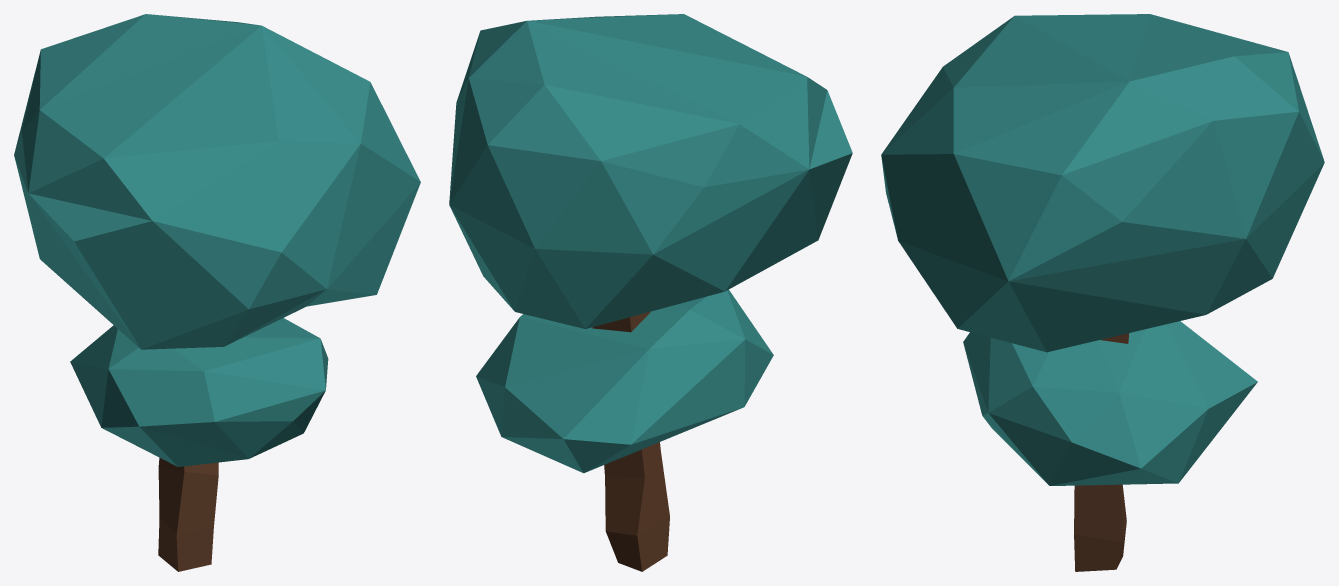
The model's file is Tree_52_Blue.fbx.
3 renders of one model, left to right at view 1: azimuth 30°, elevation 25°; view 2: azimuth 150°, elevation 25°; view 3: azimuth 270°, elevation 25°, orthographic. The views are drawn at different scales.
Visible parts, largest first — view 1: Tree_52_Blue_Part_1, Tree_52_Blue_Part_2; view 2: Tree_52_Blue_Part_1, Tree_52_Blue_Part_2; view 3: Tree_52_Blue_Part_1, Tree_52_Blue_Part_2.
Boxes of the visible parts, x1=… form: Tree_52_Blue_Part_1: x1=14, y1=14, x2=420, y2=466; Tree_52_Blue_Part_2: x1=158, y1=457, x2=218, y2=571; Tree_52_Blue_Part_1: x1=449, y1=14, x2=852, y2=473; Tree_52_Blue_Part_2: x1=592, y1=311, x2=669, y2=571; Tree_52_Blue_Part_1: x1=881, y1=14, x2=1324, y2=485; Tree_52_Blue_Part_2: x1=1074, y1=333, x2=1129, y2=571.
Bounding box in the file's own units: 447 × 607 × 461.
